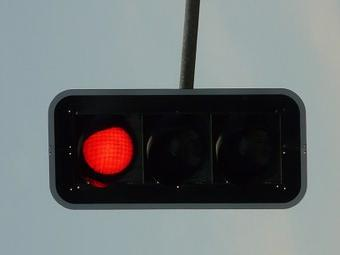trafic: (57, 96, 290, 196)
